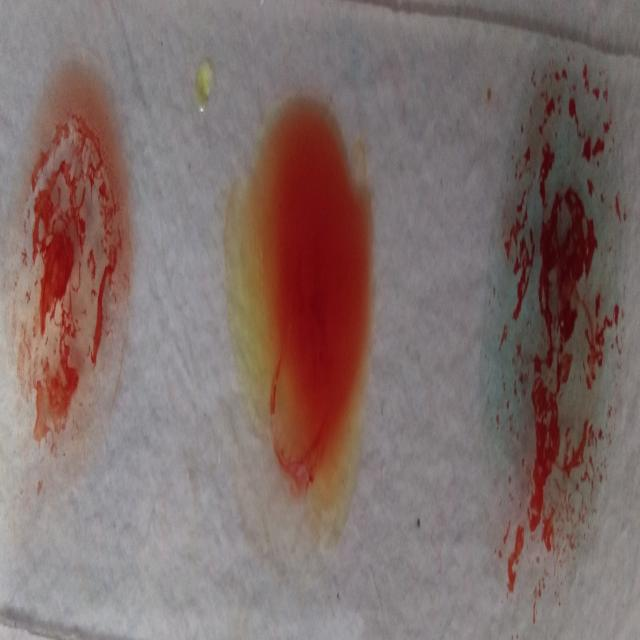A: (486, 49, 625, 606)
D: (7, 67, 134, 471)
